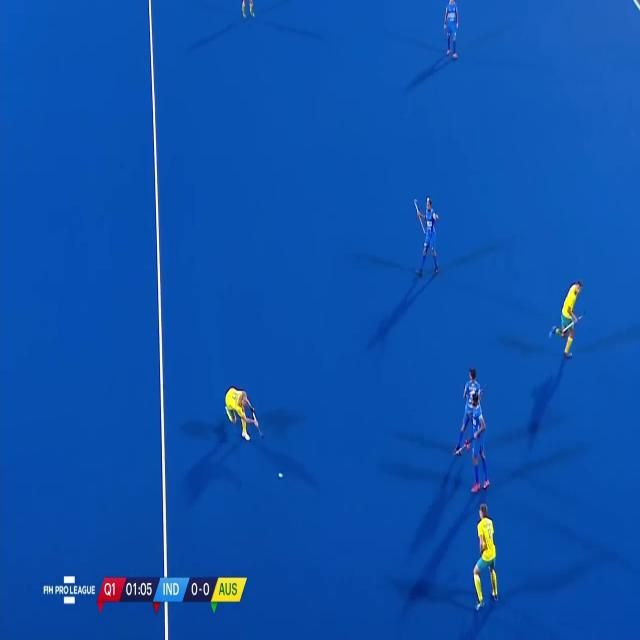ball: (276, 469, 284, 482)
